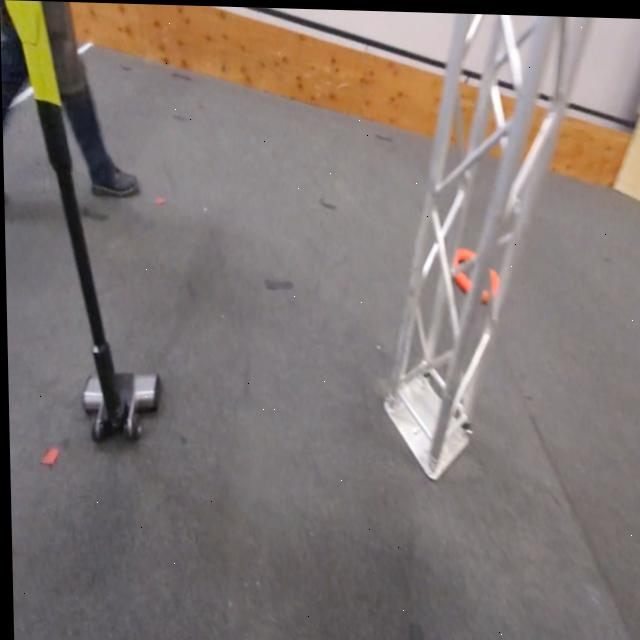note: (453, 245, 499, 295)
